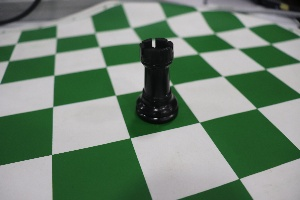black_rook: (120, 19, 188, 133)
